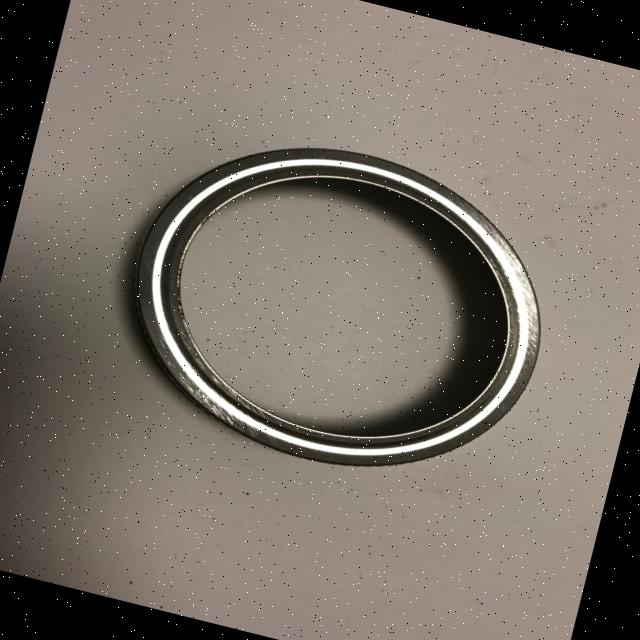metal: (99, 104, 576, 507)
